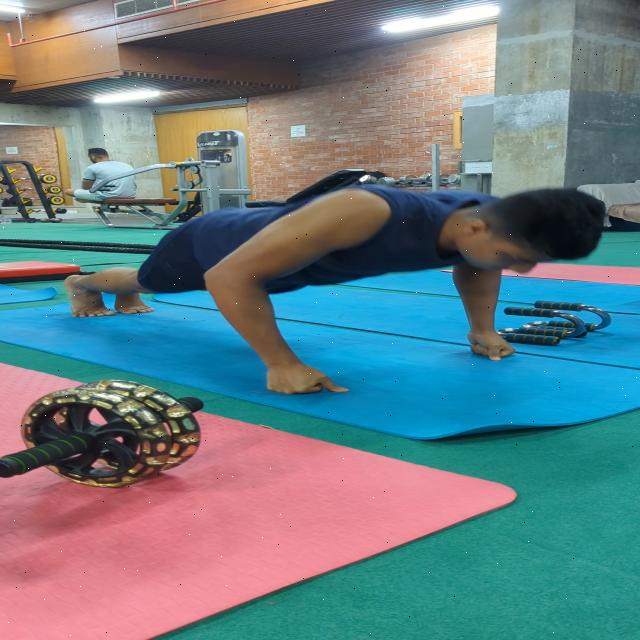Normal_PushUps: (54, 175, 610, 408)
